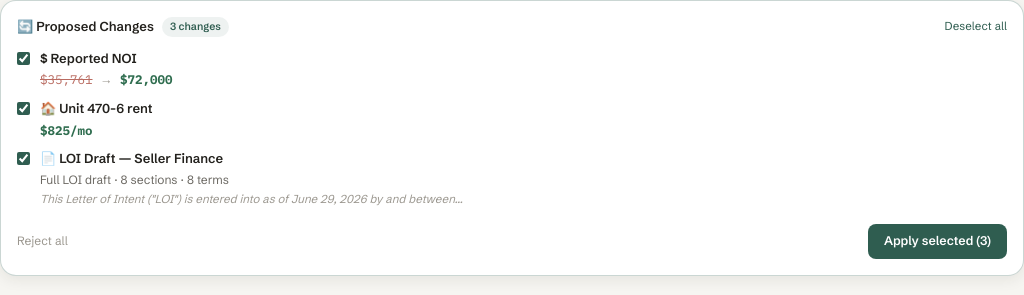
Test case: ProposalCard › Apply button is disabled when nothing is checked
The width and height of the screenshot is (1024, 295).
Click the button "Deselect all".
click(976, 27)  # box [944,18,1007,36]
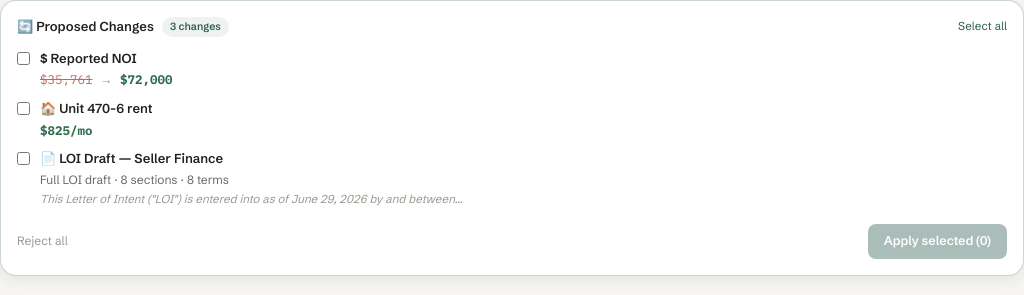
Expected: the button "Apply selected (0)" is disabled, [868,224,1007,259]
